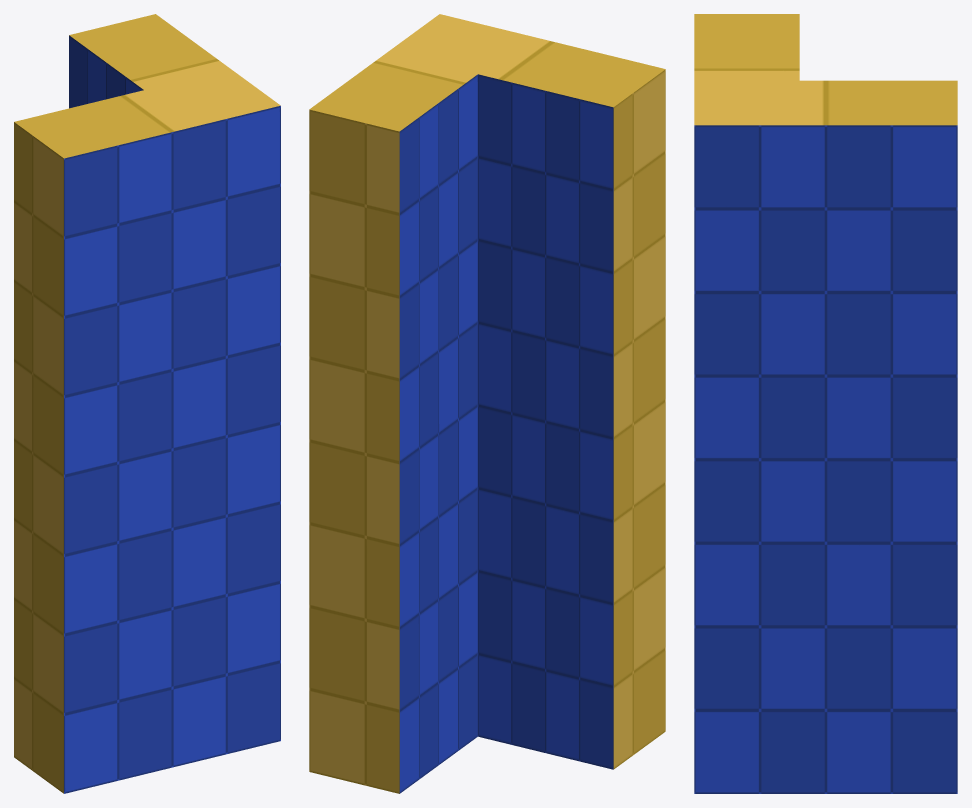
Rendered from WallL.fbx.
The picture shows the model from 3 angles, left to right: view 1: azimuth 30°, elevation 25°; view 2: azimuth 150°, elevation 25°; view 3: azimuth 270°, elevation 25°; orthographic projection. The views are drawn at different scales.
Visible parts, largest first — view 1: WallL; view 2: WallL; view 3: WallL.
Boxes of the visible parts, x1=… form: WallL: x1=14, y1=14, x2=280, y2=793; WallL: x1=309, y1=14, x2=665, y2=793; WallL: x1=694, y1=14, x2=957, y2=793.
Bounding box in the file's own units: 125 × 125 × 350.
